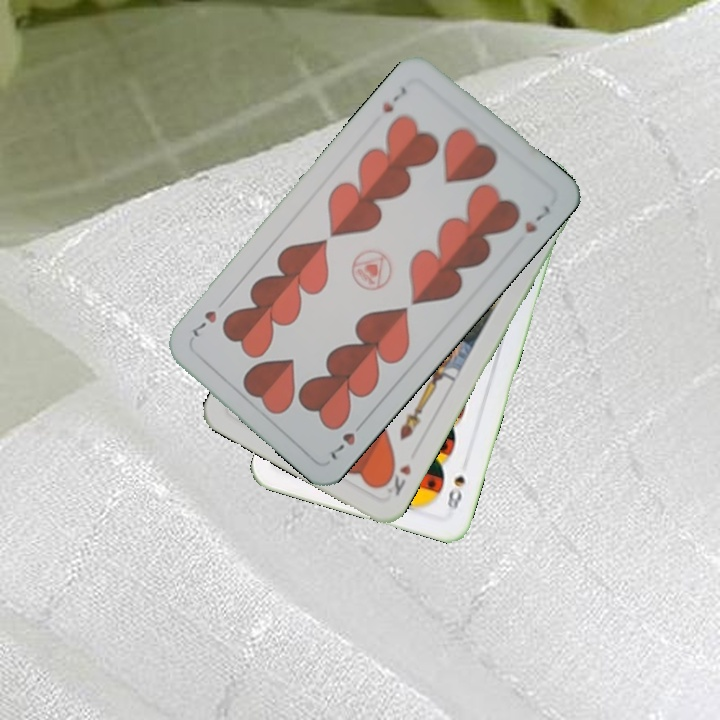H7: (326, 415, 369, 463), (378, 82, 411, 116)
HK: (378, 459, 414, 499)
S8: (443, 471, 468, 518)
